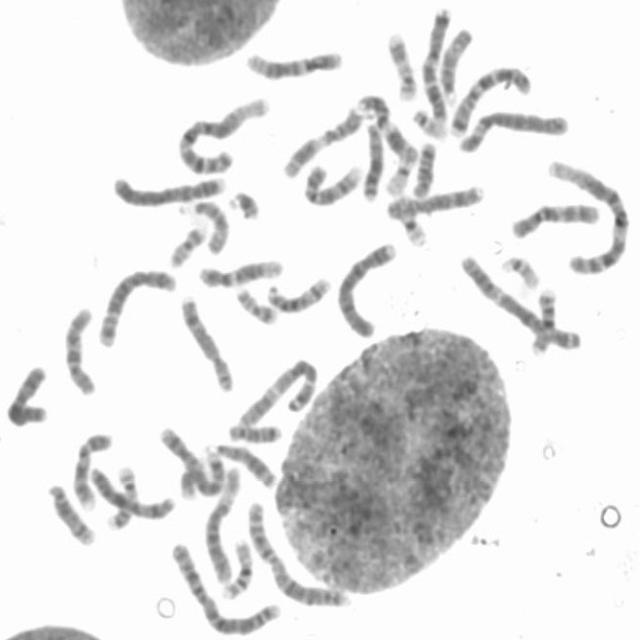A1: (545, 155, 632, 278), (173, 93, 271, 177)
A2: (242, 496, 352, 610), (167, 538, 283, 637)
A3: (454, 249, 584, 352), (233, 353, 320, 430)
B4: (333, 237, 398, 340), (110, 171, 227, 209)
B5: (95, 265, 178, 349), (156, 421, 226, 498)
C10: (507, 200, 600, 242), (59, 304, 98, 398)
C11: (279, 102, 364, 180), (354, 89, 421, 167)
C12: (242, 46, 343, 81), (195, 255, 285, 290)
C6: (199, 463, 242, 587), (456, 108, 570, 154)
C7: (445, 62, 534, 137), (416, 5, 454, 126)
C8: (177, 292, 236, 394), (384, 181, 486, 220)
C9: (67, 428, 115, 511), (300, 160, 364, 207)
D13: (205, 440, 278, 490), (360, 117, 386, 203)
D14: (45, 479, 96, 548), (263, 274, 333, 315)
D15: (437, 24, 474, 103), (190, 198, 231, 254)
E16: (218, 534, 255, 602), (528, 284, 558, 356)
E17: (383, 28, 418, 102), (103, 462, 139, 532)
E18: (410, 138, 438, 199), (225, 420, 283, 444)
F19: (382, 146, 420, 197), (388, 203, 428, 248)
F20: (166, 222, 209, 268), (232, 284, 278, 326)
G21: (226, 187, 262, 221), (179, 466, 199, 499)
G22: (496, 252, 542, 291), (410, 106, 450, 141)
X: (84, 462, 176, 523), (4, 360, 50, 428)
